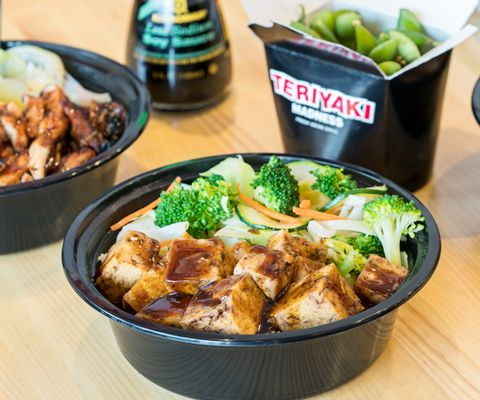curry: (153, 173, 239, 238), (249, 157, 301, 216), (323, 232, 385, 278)
pizza: (246, 2, 479, 196)
sushi: (61, 150, 452, 391), (0, 37, 149, 257)
